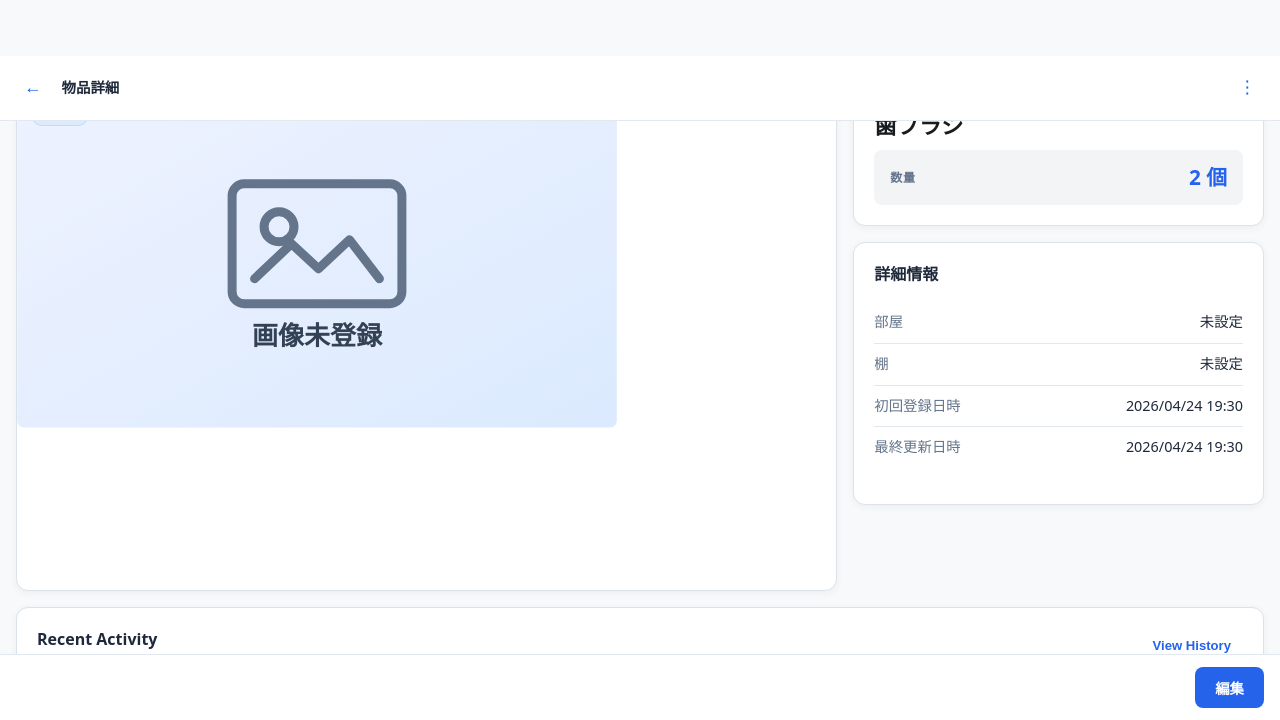
Test case: ItemDetailPage › 削除メニューをクリックすると確認ダイアログが開く
The width and height of the screenshot is (1280, 720).
Click the button with class "menu-btn": x=1247, y=88 [1230,71,1264,105]
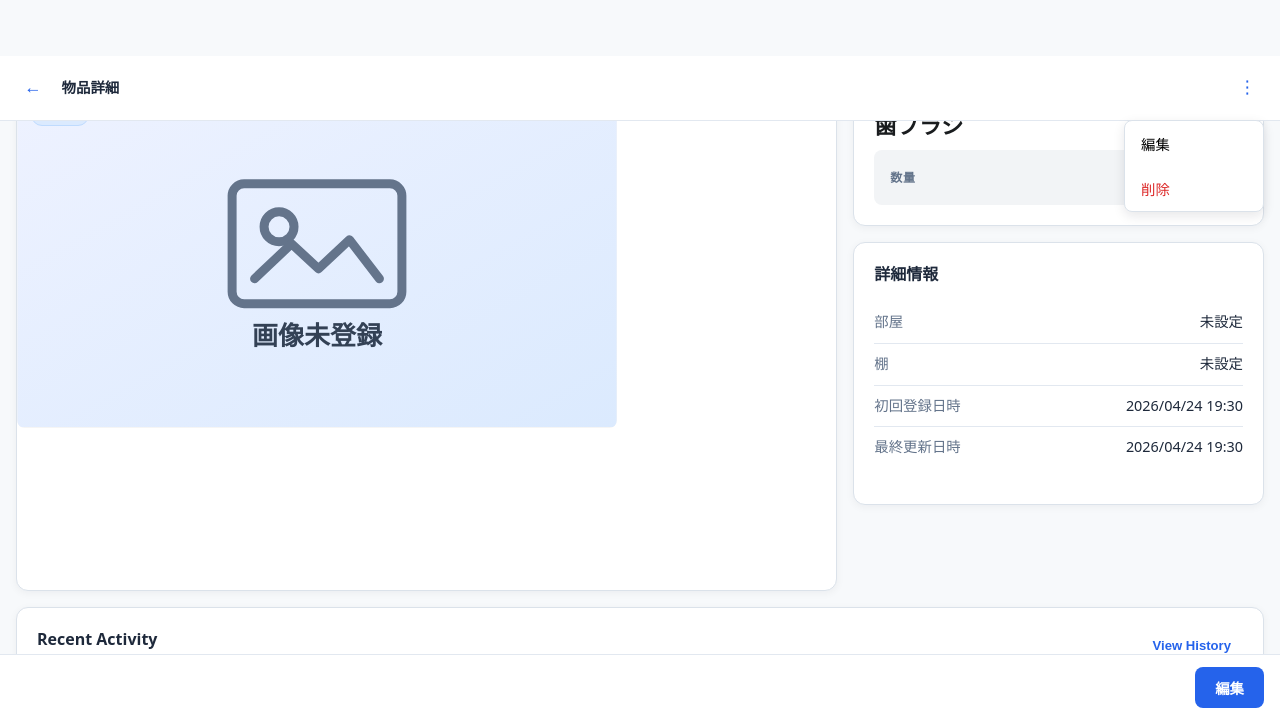
Click the button with class "danger": x=1194, y=188 [1125,166,1263,211]
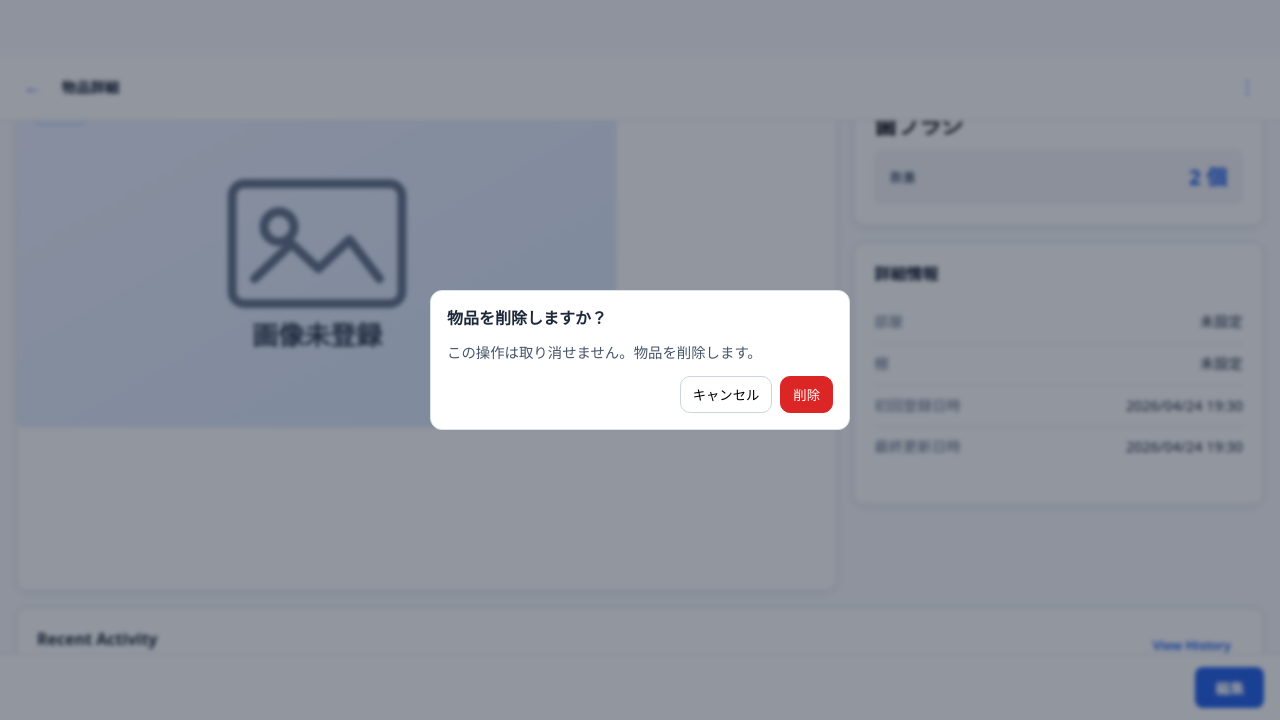
Expected: the element with class "dialog-overlay" is shown
